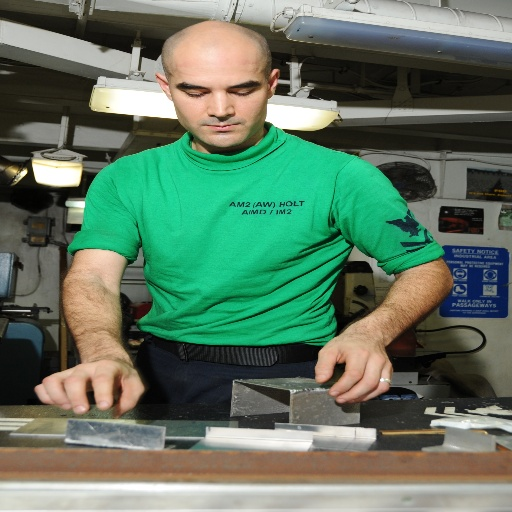hand: (311, 327, 395, 406), (32, 357, 136, 416)
